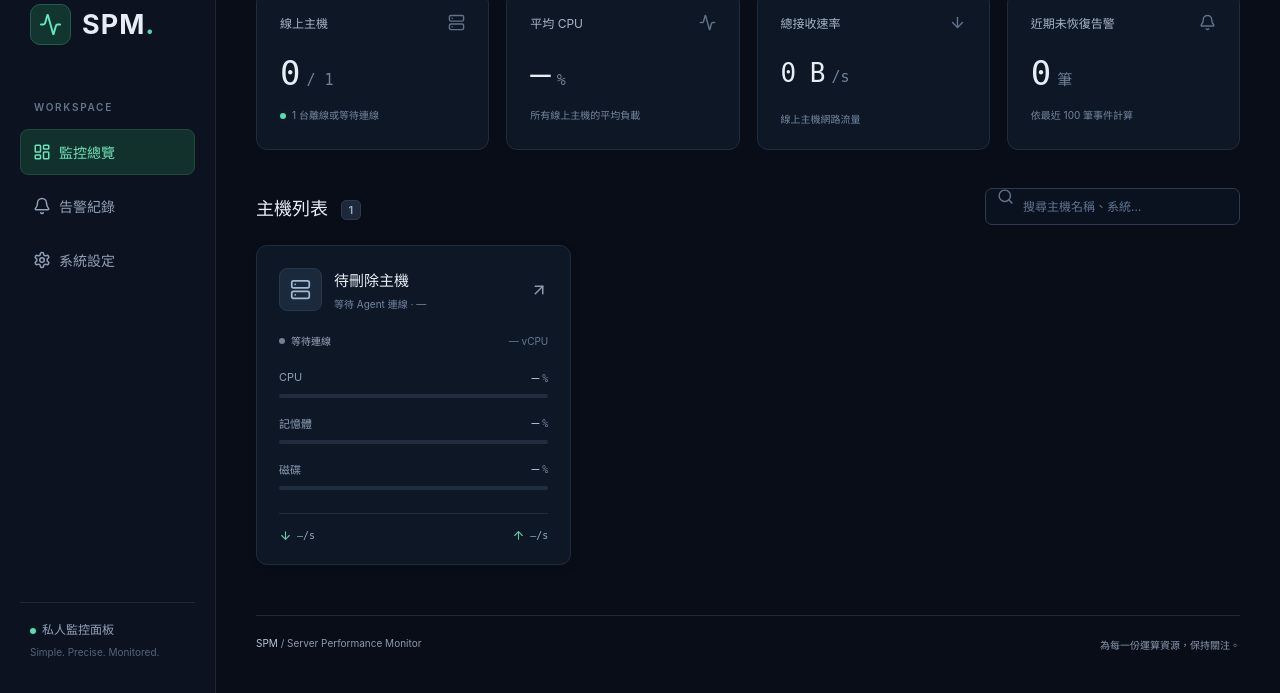
Test: ignores an older poll after deleting a host (old request fails: false)
(page scrolled)
What coordinates should you click on to do the following:
click the button with test id "node-removed"
I would click on:
 (300, 290)
Its box is [256, 245, 571, 565].
Wait 3000 ms
(page scrolled)
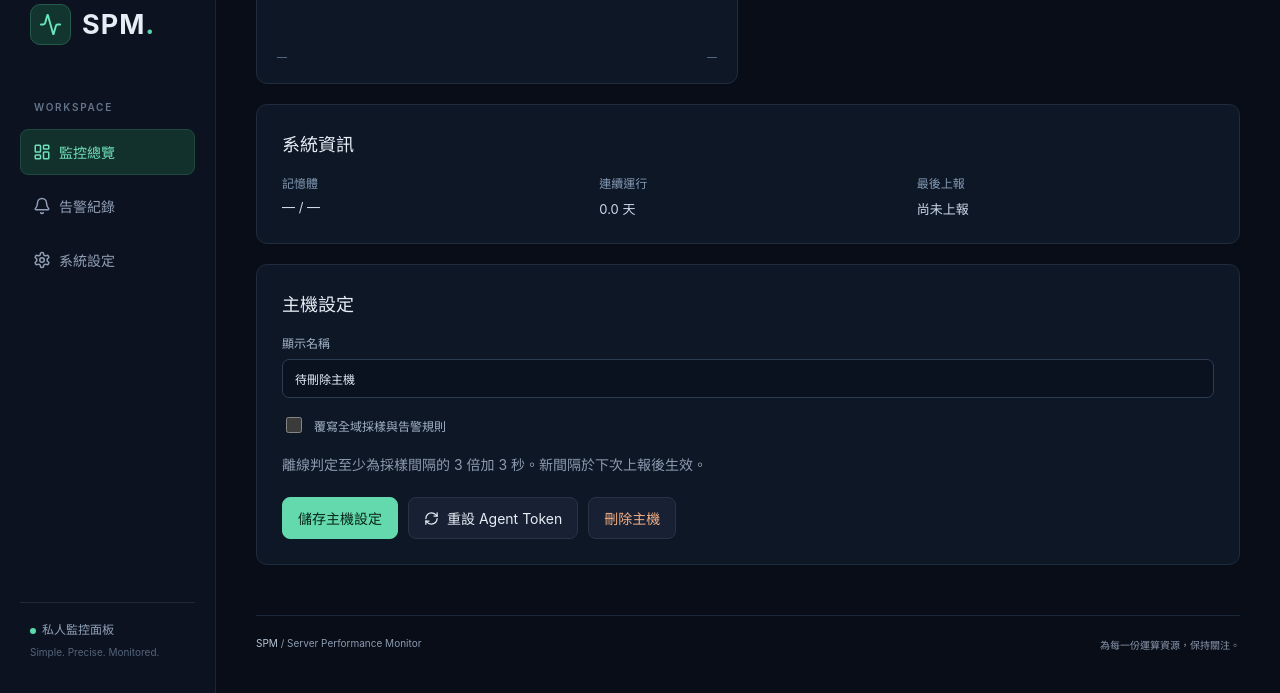
What coordinates should you click on to do the following:
click the button "刪除主機"
I would click on:
 (632, 518)
Its box is [588, 497, 676, 539].
(page scrolled)
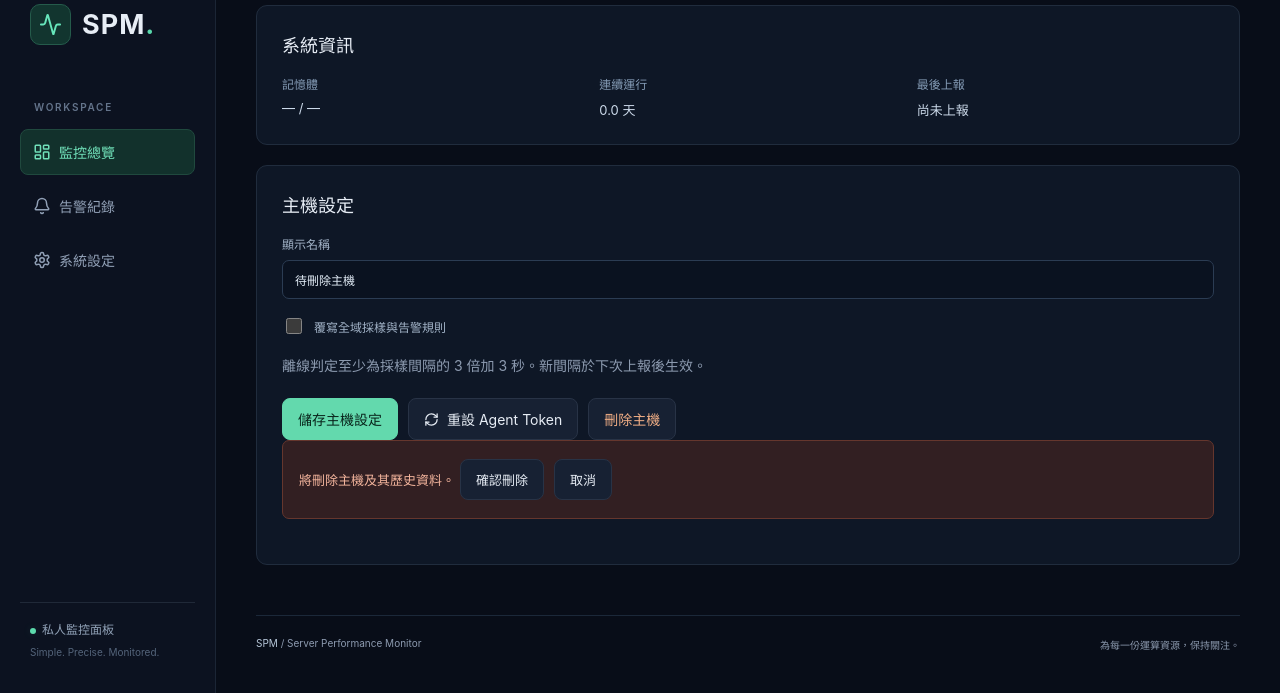
What coordinates should you click on to do the following:
click the button "確認刪除"
I would click on:
 (502, 480)
Its box is [460, 459, 544, 500].
(page scrolled)
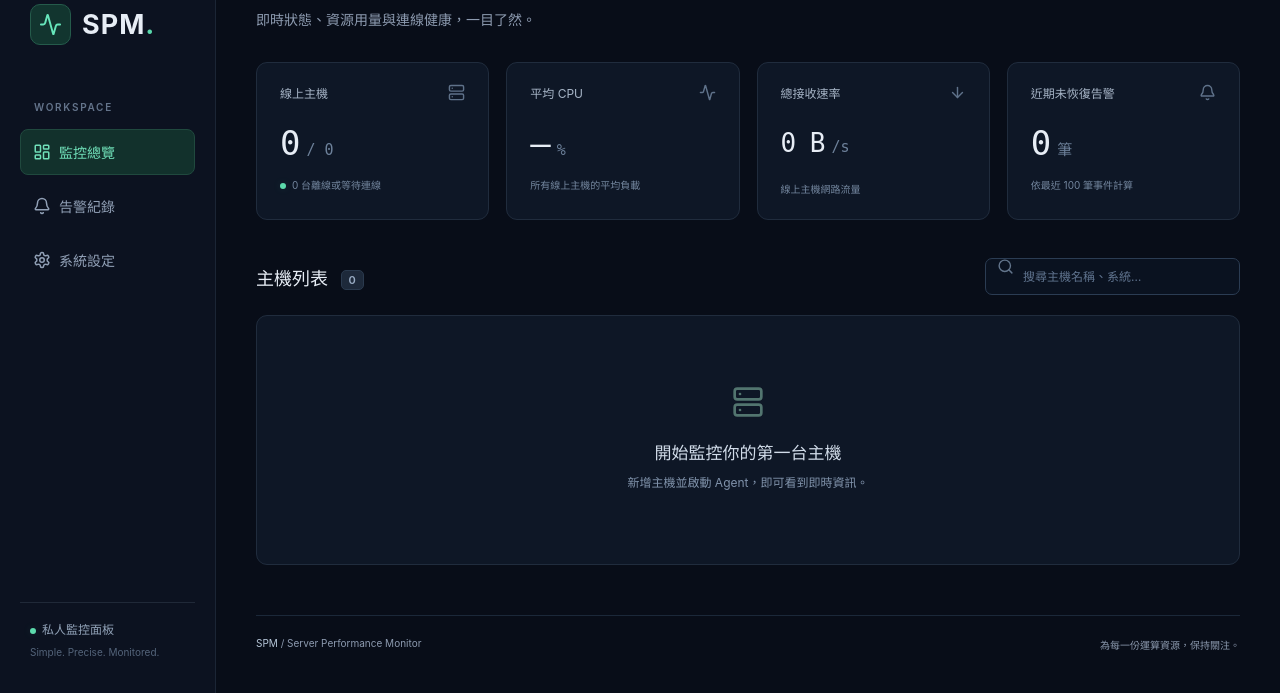
Expected: the text "開始監控你的第一台主機" is shown, [654, 443, 842, 463]
